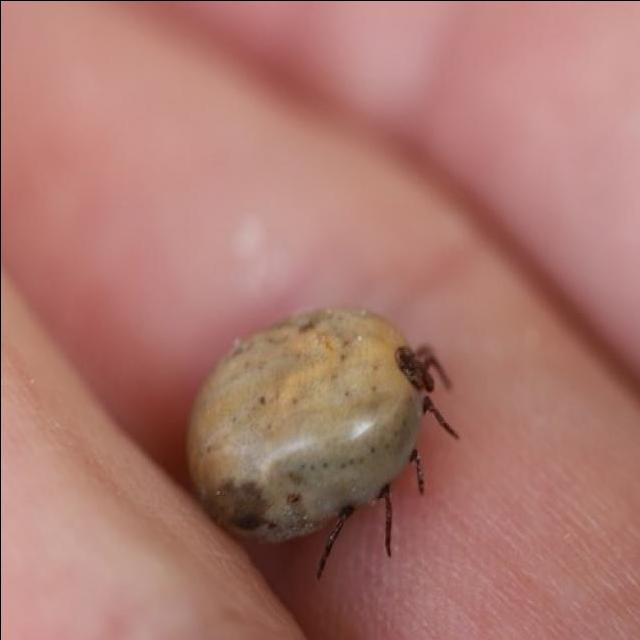Dermacentor Reticulatus-F-Fed: (186, 307, 461, 579)
